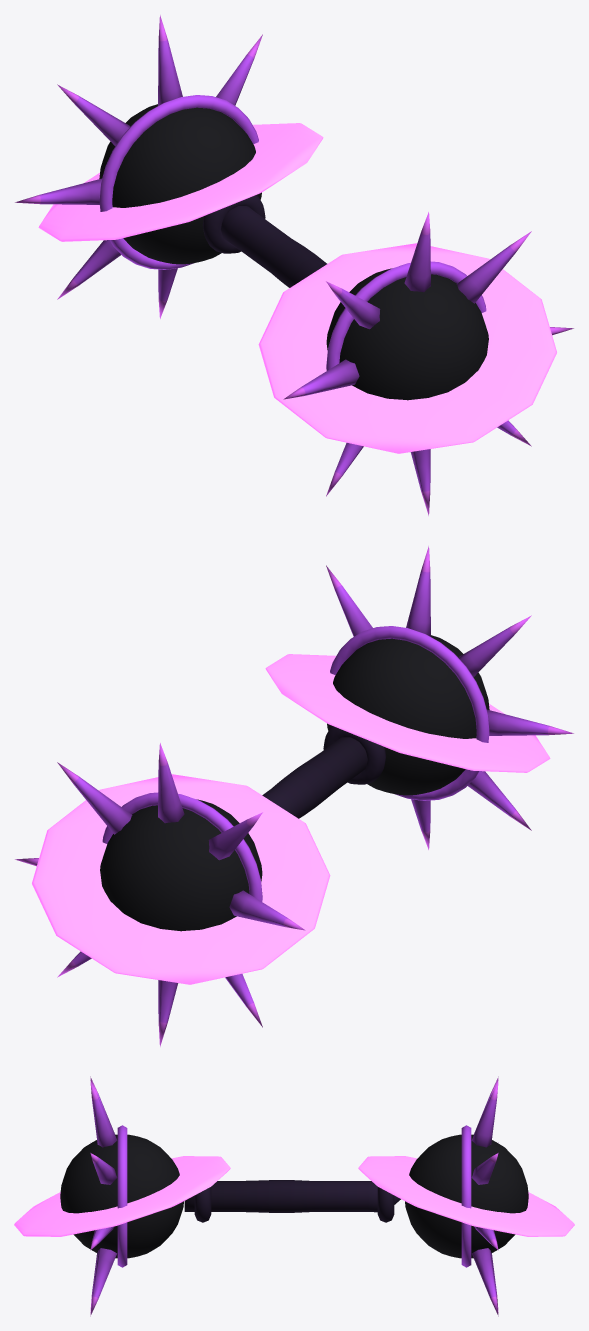
File: VoidDumbbell.fbx
3 views of the same model, one above another, from view 1: azimuth 30°, elevation 25°; view 2: azimuth 150°, elevation 25°; view 3: azimuth 270°, elevation 25° (orthographic). The views are drawn at different scales.
Visible parts, largest first — view 1: VoidDumbbell, VoidDumbbell_Glow; view 2: VoidDumbbell, VoidDumbbell_Glow; view 3: VoidDumbbell, VoidDumbbell_Glow.
Boxes of the visible parts, <box> form: VoidDumbbell: <box>15,15,573,515</box>; VoidDumbbell_Glow: <box>38,123,556,453</box>; VoidDumbbell: <box>15,546,573,1046</box>; VoidDumbbell_Glow: <box>32,654,550,984</box>; VoidDumbbell: <box>60,1076,528,1316</box>; VoidDumbbell_Glow: <box>14,1156,574,1236</box>.
Size of the model in its own units: 140 by 140 by 306.
2 materials, 1 textured.
